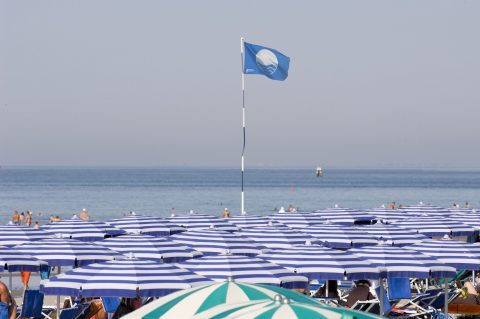Flag: (238, 39, 294, 86)
